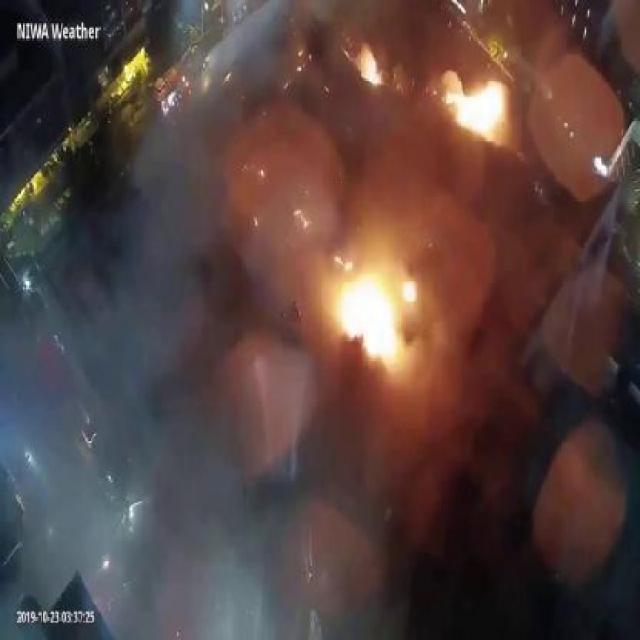Fire: (334, 273, 416, 369), (443, 80, 506, 146), (355, 44, 383, 86), (335, 254, 353, 271), (294, 208, 310, 227)
